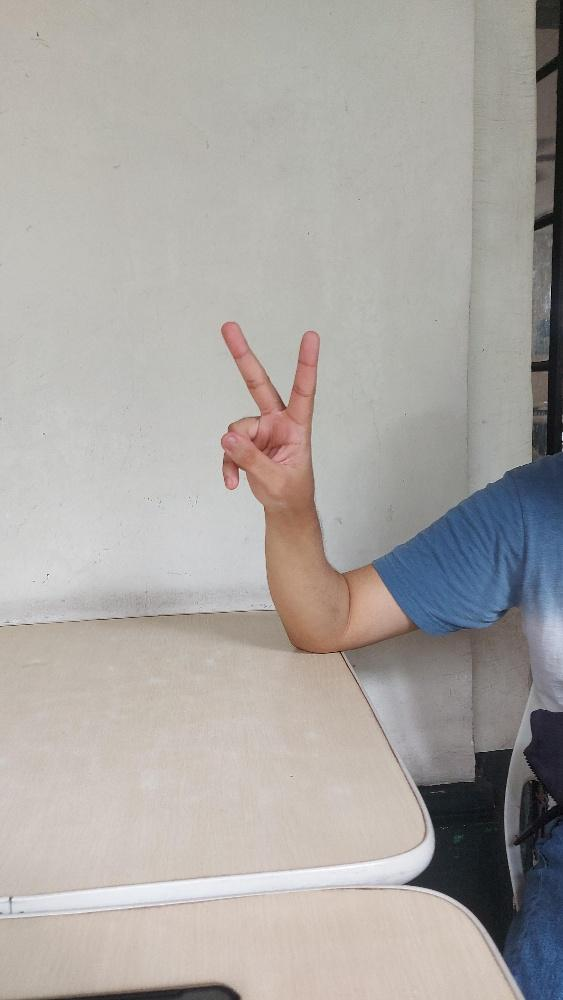v: (220, 320, 319, 507)
